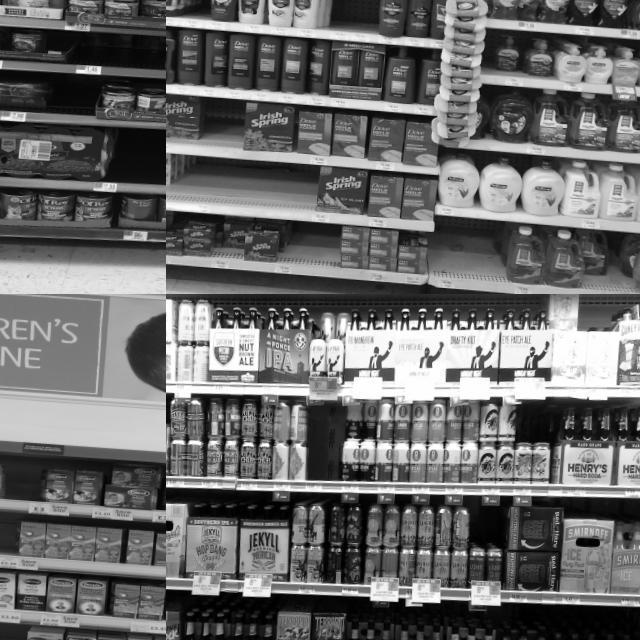empty: (192, 156, 314, 220), (430, 214, 496, 290), (74, 34, 164, 78), (111, 125, 166, 196), (288, 221, 342, 277), (306, 409, 342, 493), (202, 97, 245, 158), (48, 77, 96, 125), (6, 457, 42, 511), (352, 0, 378, 42), (328, 0, 353, 40), (0, 513, 17, 566), (187, 0, 209, 28)
